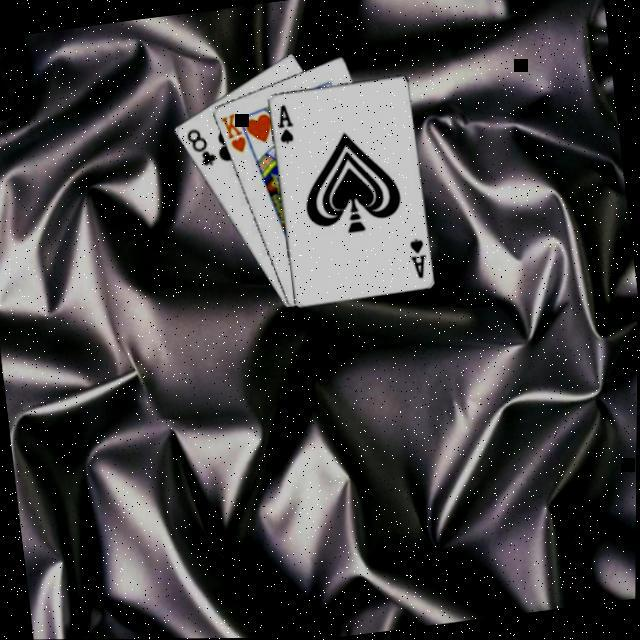8C: (180, 125, 217, 173)
AS: (269, 102, 296, 148), (404, 236, 428, 284)
KH: (215, 110, 248, 160)
